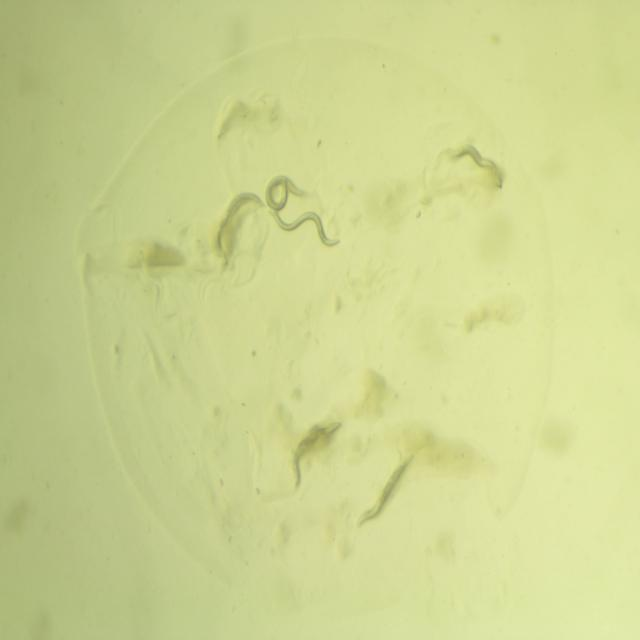worm: (345, 441, 421, 541), (282, 413, 348, 500), (208, 188, 267, 276), (439, 132, 513, 200), (262, 203, 348, 256), (261, 168, 316, 220)
